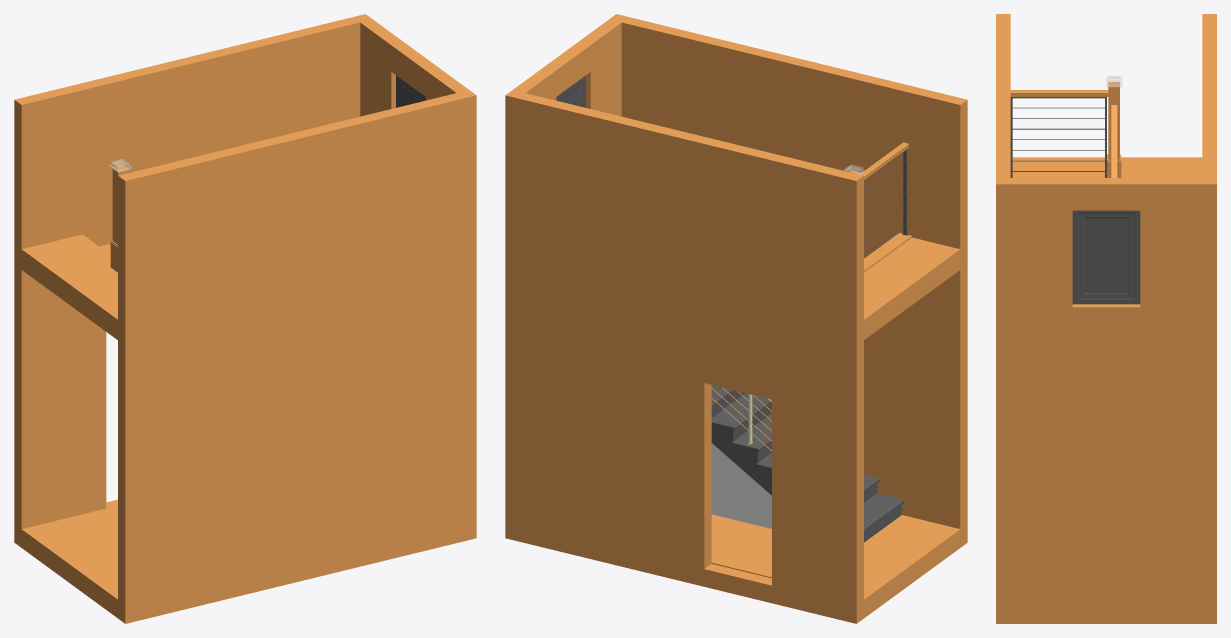
The model's file is леснтица фломандия вар2.obj.
The picture shows the model from 3 angles, left to right: view 1: azimuth 30°, elevation 25°; view 2: azimuth 150°, elevation 25°; view 3: azimuth 270°, elevation 25°; orthographic projection.
Size of the model in its own units: 4.15 by 5 by 2.28.
